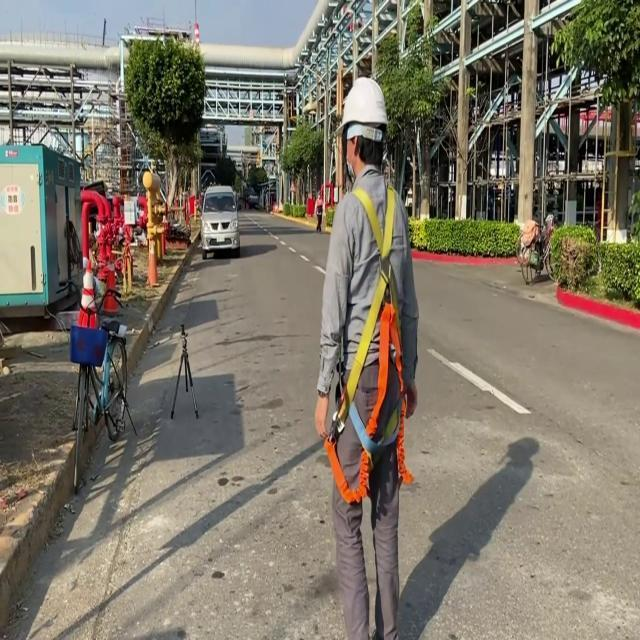safety belt: (326, 175, 443, 500)
